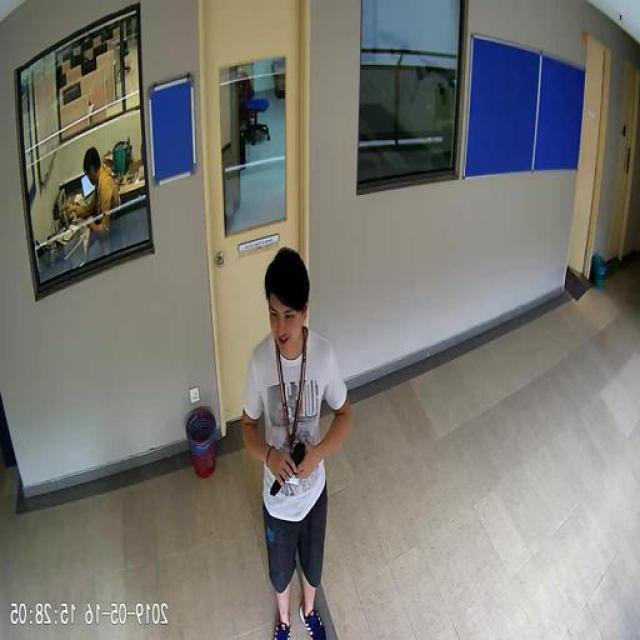Gun: (272, 444, 310, 495)
